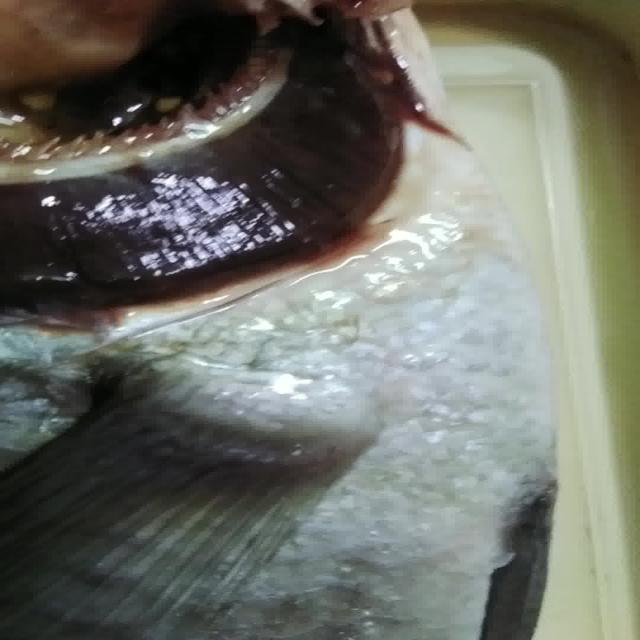Non-Fresh: (8, 12, 431, 337)
